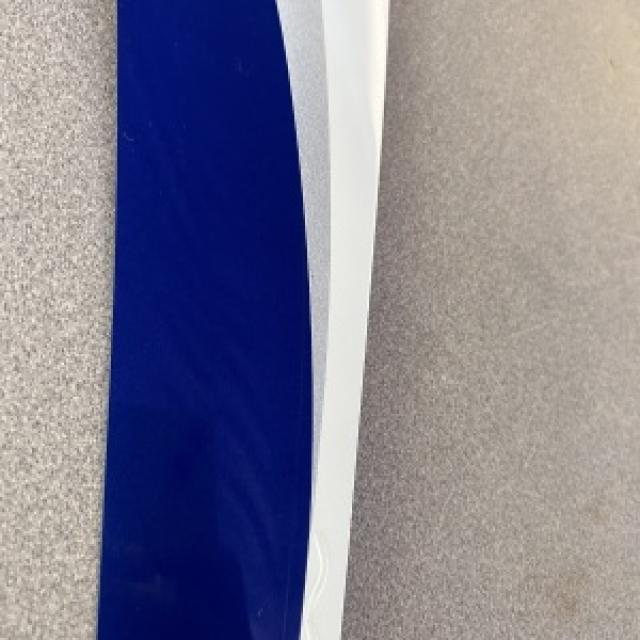healthy: (96, 0, 384, 638)
